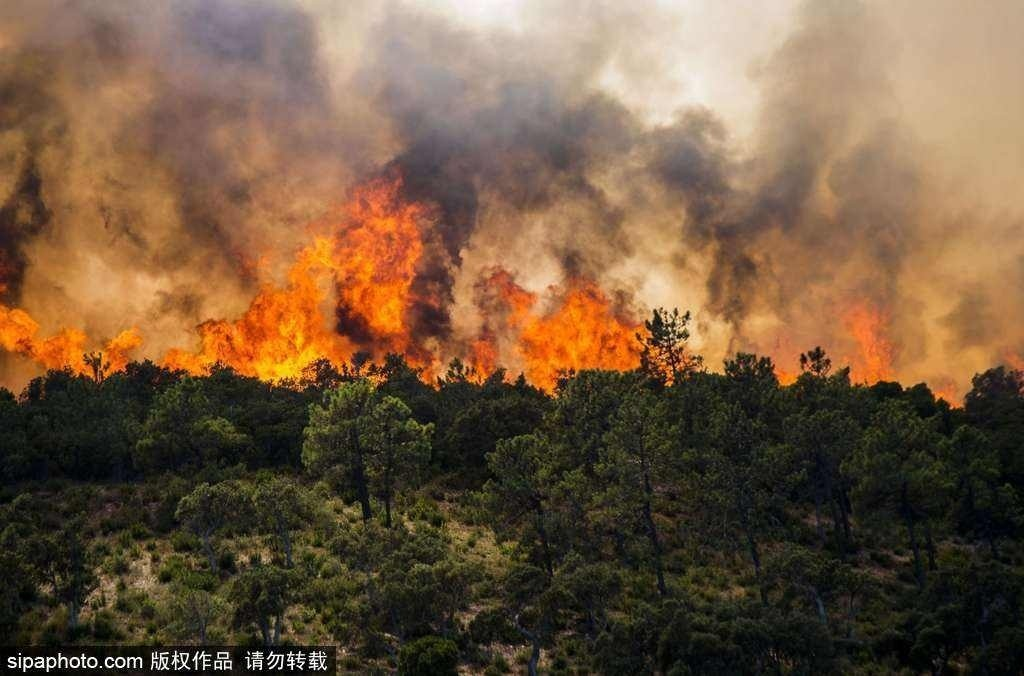fire: (759, 296, 993, 402), (0, 246, 145, 390)
